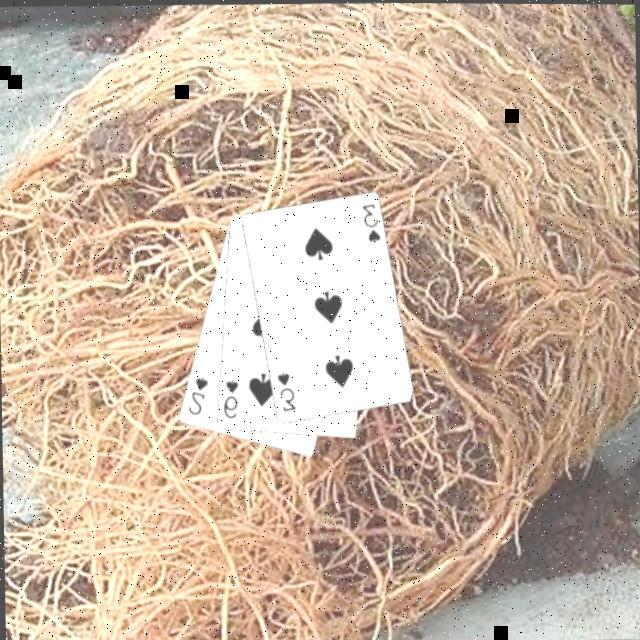2S: (182, 371, 210, 415)
3S: (356, 197, 382, 243), (272, 366, 297, 412)
6S: (218, 374, 240, 418)
